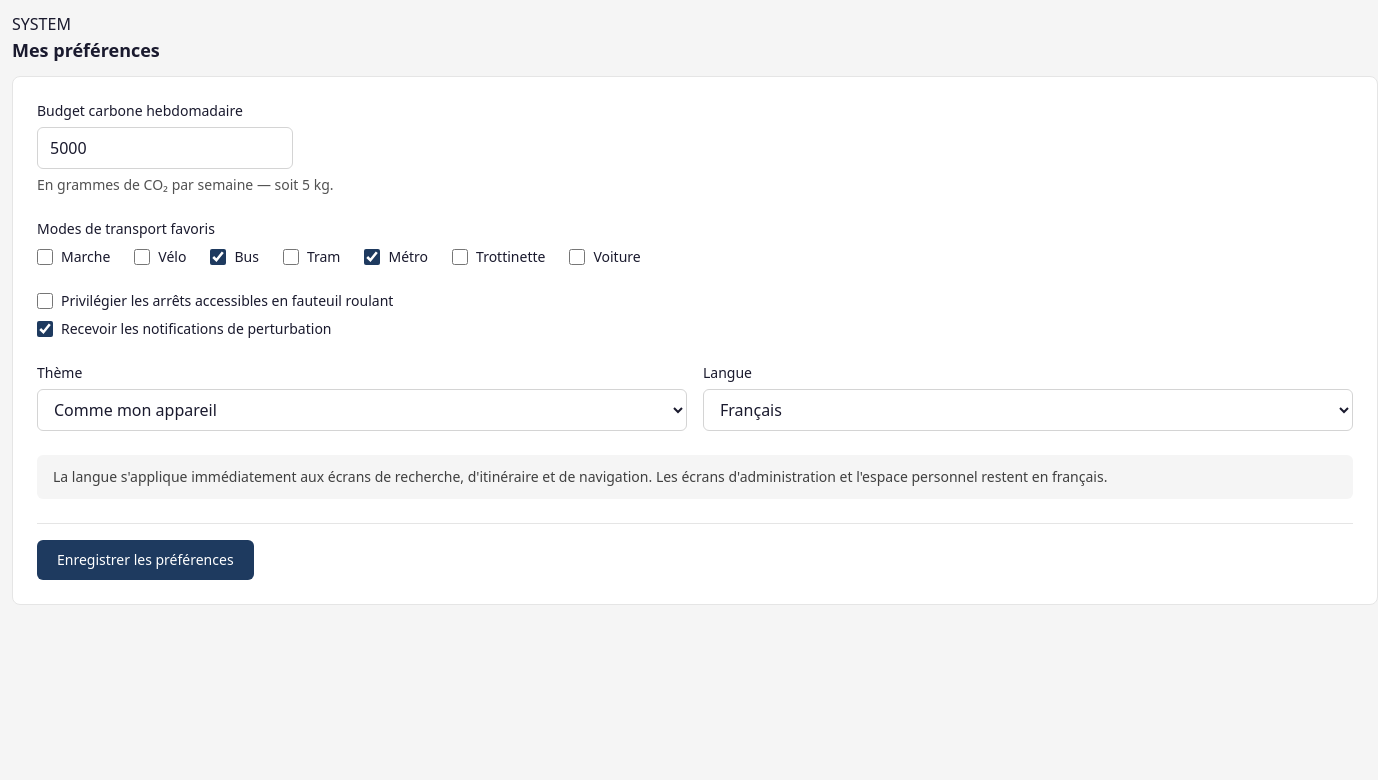
Scenario: Préférences › enregistrement › ne confirme QU'APRÈS la réponse du serveur
This screenshot has width=1378, height=780.
Expected: the number field labelled "Budget carbone hebdomadaire" holds "5000", [37,127,293,169]
Click the button "Enregistrer les préférences": (145, 560) [37,540,254,580]
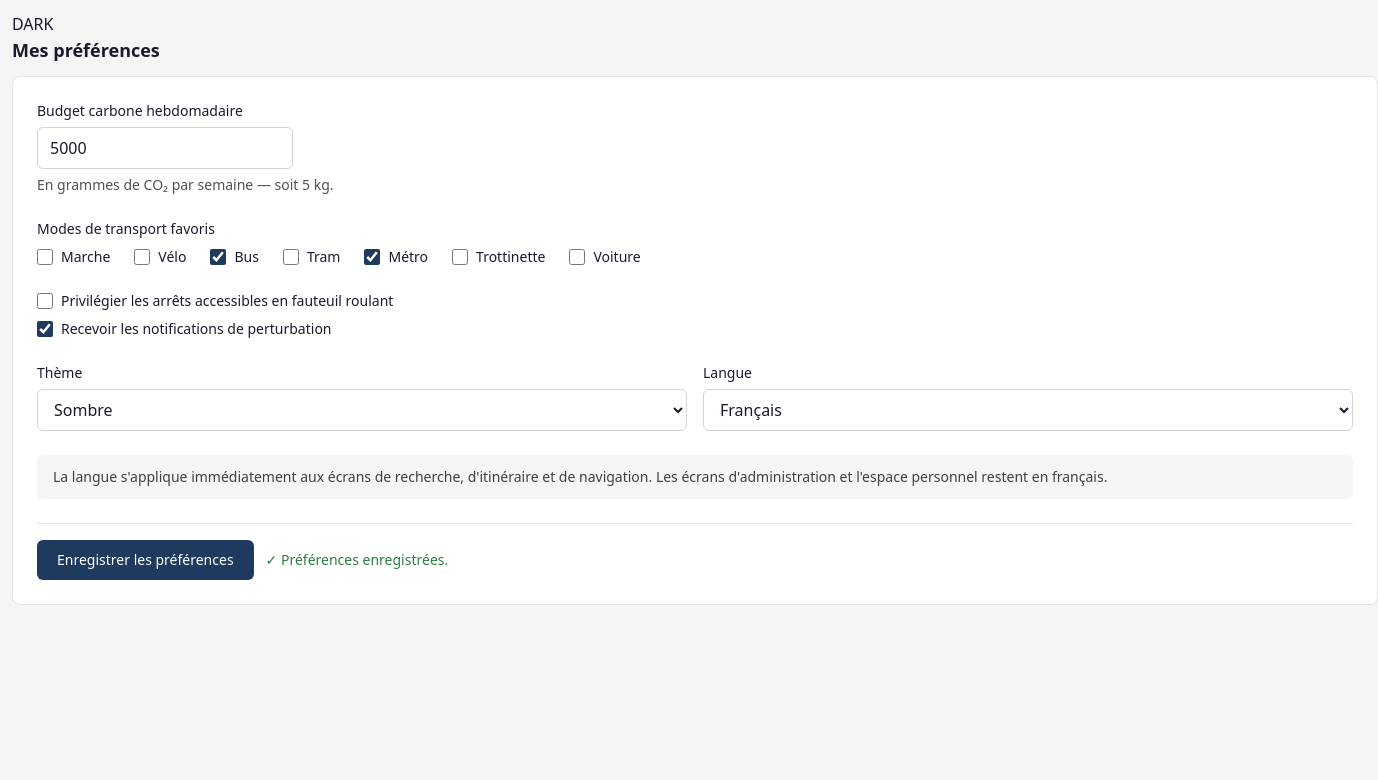
Now the text "✓ Préférences enregistrées." is shown, box [266,550,448,570]
